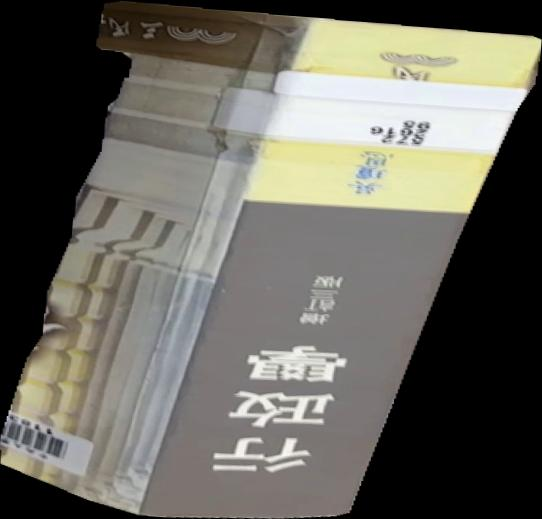reverse: (1, 1, 542, 519)
